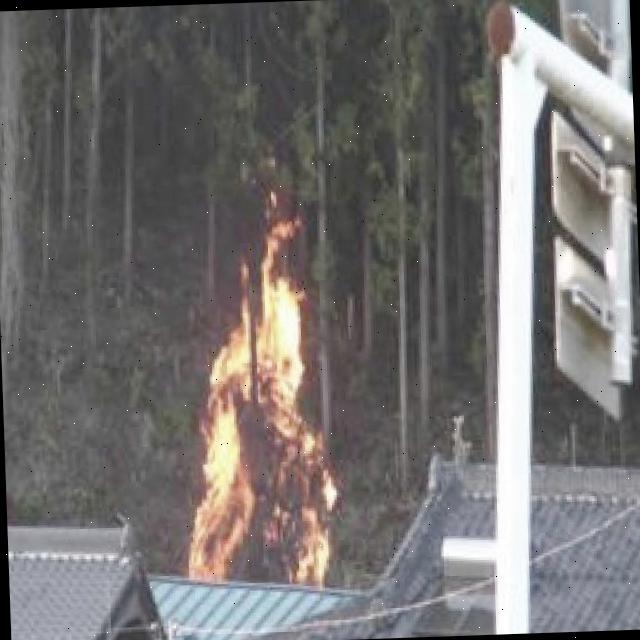fire: (181, 212, 342, 582)
